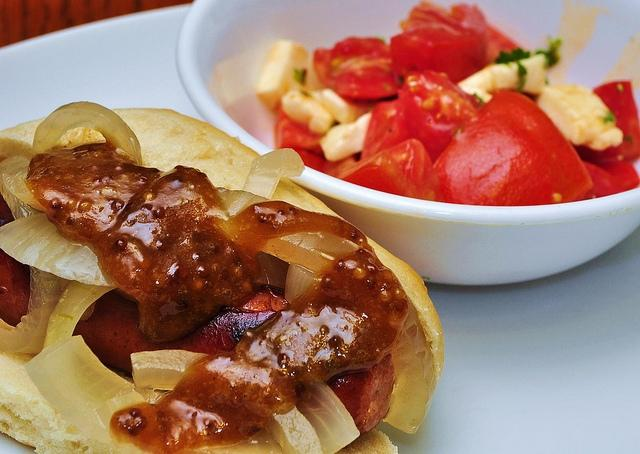onion: (214, 190, 436, 434), (129, 349, 323, 454), (24, 334, 135, 450), (0, 212, 117, 286), (32, 102, 143, 166), (0, 265, 70, 354), (42, 280, 118, 350), (296, 384, 360, 454), (244, 149, 307, 200), (0, 248, 30, 327), (1, 172, 44, 212), (285, 264, 322, 309), (79, 301, 95, 322)
tomato: (432, 87, 596, 206), (362, 71, 478, 166), (332, 139, 442, 202), (390, 24, 490, 84), (570, 80, 640, 164), (312, 37, 402, 99), (399, 1, 488, 37), (274, 102, 325, 159), (582, 160, 633, 200), (292, 148, 356, 176), (587, 160, 640, 190), (485, 22, 519, 62)
